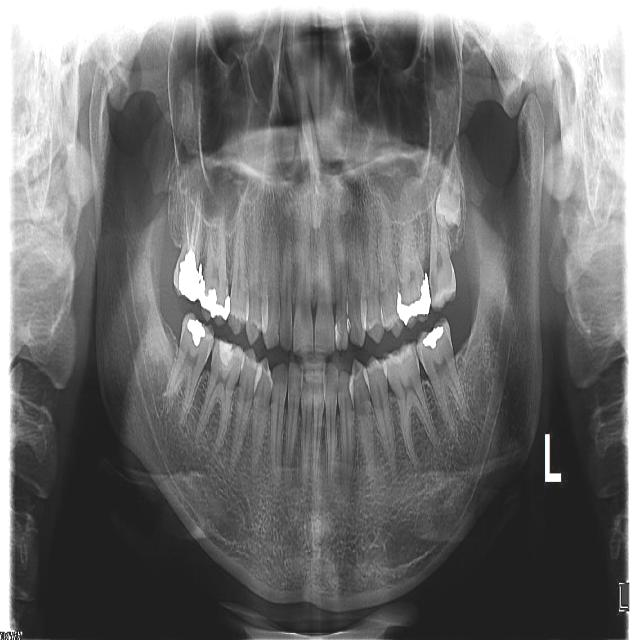Caries: (429, 270, 439, 303), (332, 383, 342, 392)
Filling: (396, 274, 430, 325), (199, 276, 231, 320), (178, 249, 202, 301), (219, 341, 237, 368), (187, 320, 205, 346), (423, 327, 443, 349), (335, 323, 342, 349), (346, 314, 352, 336)
Root Canal Treatment: (189, 196, 198, 250), (192, 200, 201, 252), (186, 203, 189, 254)
impacted tooth: (434, 142, 462, 229)
